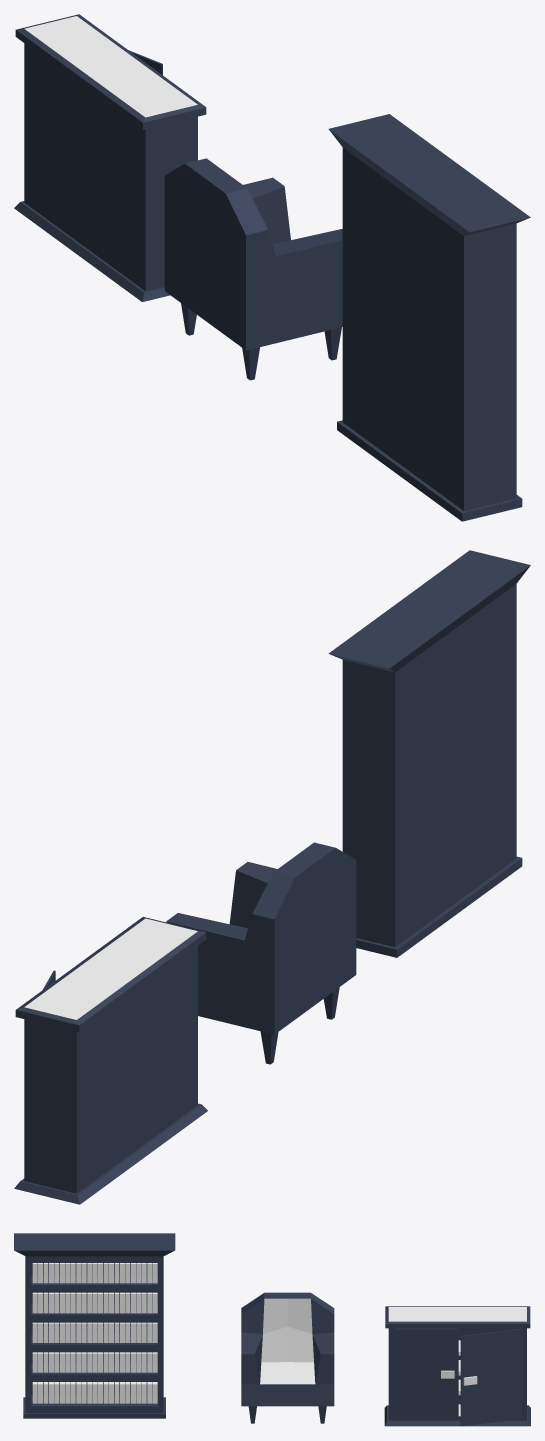
File: assetLibrary.fbx
3 renders of one model, top to bottom at view 1: azimuth 30°, elevation 25°; view 2: azimuth 150°, elevation 25°; view 3: azimuth 270°, elevation 25°, orthographic. The views are drawn at different scales.
Visible parts, largest first — view 1: Bookshelf, Cube.003, SmokingChair; view 2: Bookshelf, Cube.003, SmokingChair; view 3: Bookshelf, Cube.003, SmokingChair.
Boxes of the visible parts, x1,y1,x2,y2 form: Bookshelf: (328, 114, 530, 521); Cube.003: (14, 14, 206, 301); SmokingChair: (164, 158, 342, 380); Bookshelf: (328, 550, 530, 957); Cube.003: (14, 917, 207, 1204); SmokingChair: (166, 842, 356, 1064); Bookshelf: (14, 1233, 175, 1418); Cube.003: (384, 1306, 530, 1426); SmokingChair: (241, 1292, 334, 1423).
Size of the model in its own units: 443 by 1117 by 2989.
